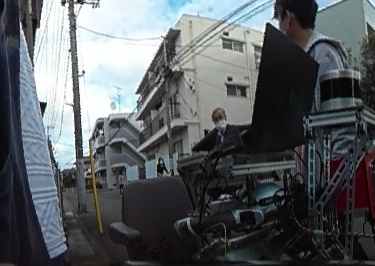person: (271, 0, 354, 95), (201, 104, 242, 156), (154, 155, 166, 175), (115, 171, 124, 192)
